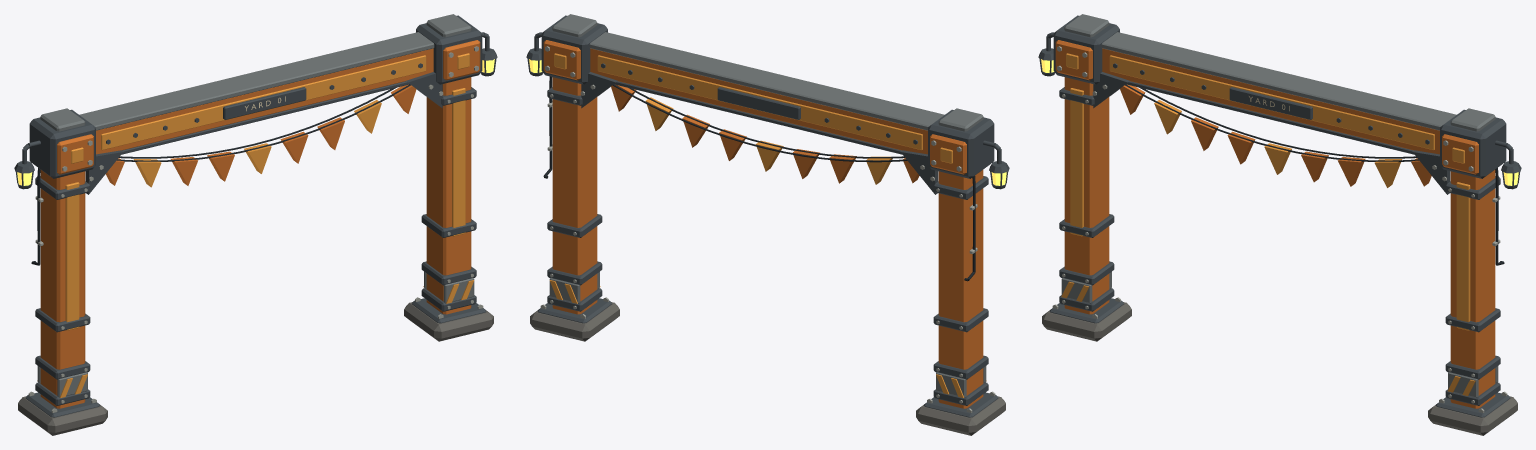
File: wsc-module-018-road-gate-gantry.glb
The picture shows the model from 3 angles, left to right: view 1: azimuth 30°, elevation 25°; view 2: azimuth 150°, elevation 25°; view 3: azimuth 330°, elevation 25°; orthographic projection.
Visible parts, largest first — view 1: Safety enamel | burnt tangerine, Graphite castwork, Amber baked enamel, Braised gunmetal edges, Warm counterweight gray, Carbon gasket, Worn zinc fasteners; view 2: Safety enamel | burnt tangerine, Graphite castwork, Braised gunmetal edges, Amber baked enamel, Warm counterweight gray, Carbon gasket, Worn zinc fasteners; view 3: Safety enamel | burnt tangerine, Graphite castwork, Amber baked enamel, Braised gunmetal edges, Warm counterweight gray, Carbon gasket, Worn zinc fasteners.
Boxes of the visible parts, x1,y1,x2,y2 form: Safety enamel | burnt tangerine: (40,40,480,408); Graphite castwork: (14,15,497,417); Amber baked enamel: (37,53,474,397); Braised gunmetal edges: (37,14,474,397); Warm counterweight gray: (18,302,493,435); Carbon gasket: (31,84,410,265); Worn zinc fasteners: (28,46,483,412); Safety enamel | burnt tangerine: (543,40,983,408); Graphite castwork: (526,15,1009,417); Braised gunmetal edges: (549,14,986,397); Amber baked enamel: (549,53,986,397); Warm counterweight gray: (530,302,1005,435); Carbon gasket: (543,76,975,281); Worn zinc fasteners: (540,46,995,412); Safety enamel | burnt tangerine: (1055,40,1495,408); Graphite castwork: (1038,15,1521,417); Amber baked enamel: (1061,53,1475,395); Braised gunmetal edges: (1061,14,1498,397); Warm counterweight gray: (1042,302,1517,435); Carbon gasket: (1125,84,1504,265); Worn zinc fasteners: (1052,46,1507,412).
Size of the model in its own units: 7.27 by 4.36 by 0.93.
